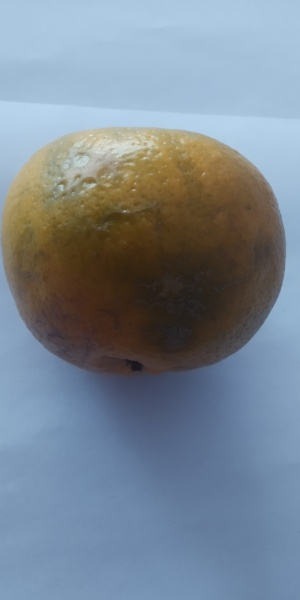BAD: (1, 129, 300, 382)
